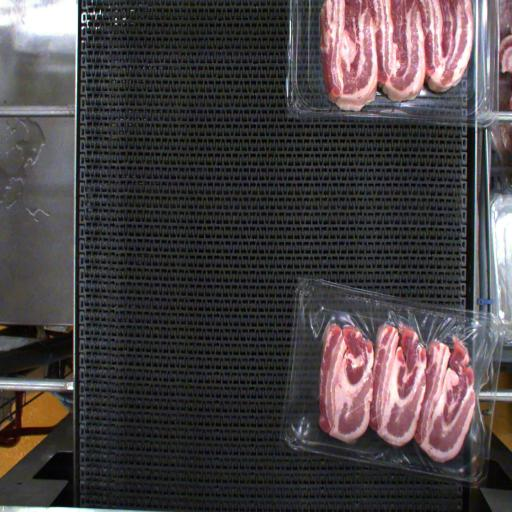unsealed: (301, 282, 495, 473)
